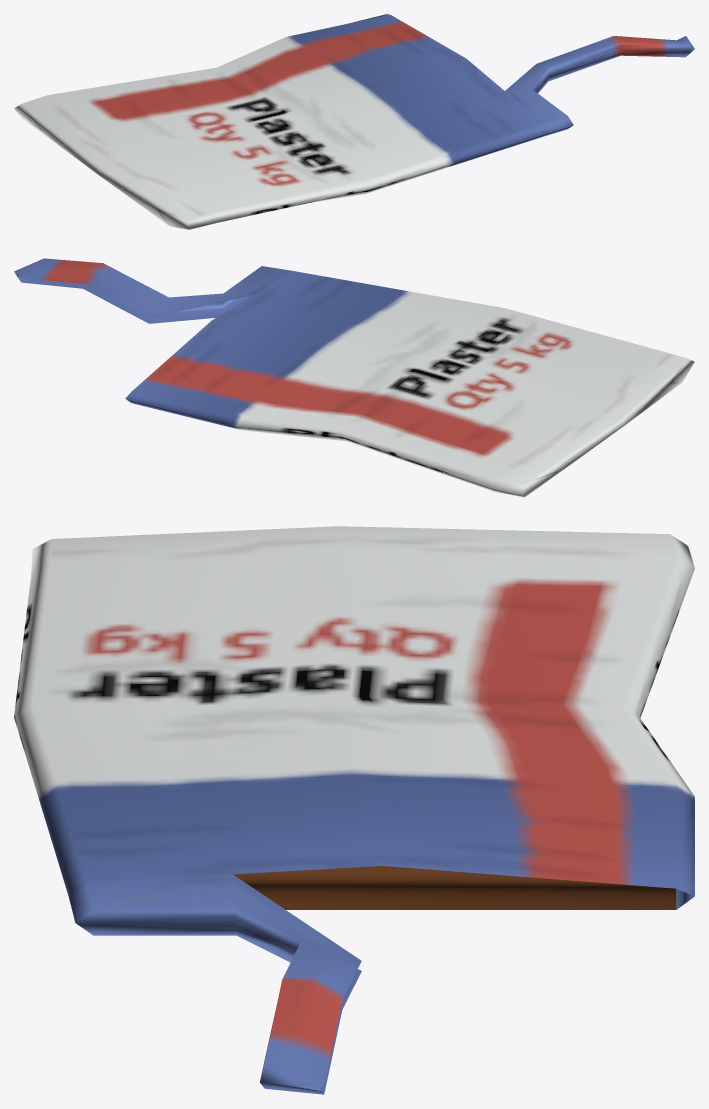
File: PlasterPowderEmpty.fbx
3 views of the same model, one above another, from view 1: azimuth 30°, elevation 25°; view 2: azimuth 150°, elevation 25°; view 3: azimuth 270°, elevation 25° (orthographic). The views are drawn at different scales.
Visible parts, largest first — view 1: BagOfPlasterPowder; view 2: BagOfPlasterPowder; view 3: BagOfPlasterPowder.
Boxes of the visible parts, x1,y1,x2,y2 form: BagOfPlasterPowder: (14,14,694,229); BagOfPlasterPowder: (14,258,694,497); BagOfPlasterPowder: (14,526,694,1094).
Bounding box in the file's own units: 217 × 9.7 × 114.
